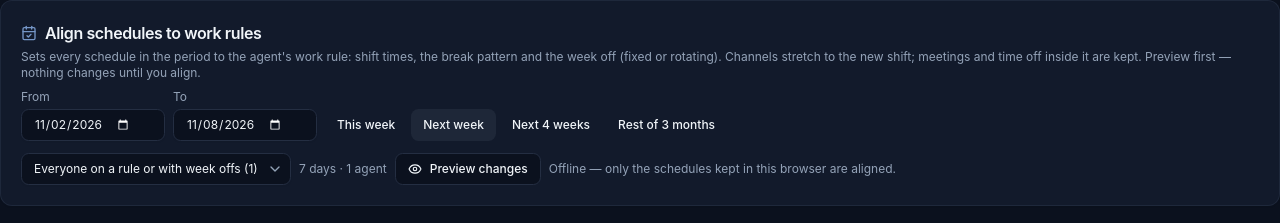
Test case: align schedules to work rules › checks the period
The width and height of the screenshot is (1280, 223).
Step 1. Type "2026-11-08" into the date field named "Align from" → (93, 125), box [21, 109, 165, 141]
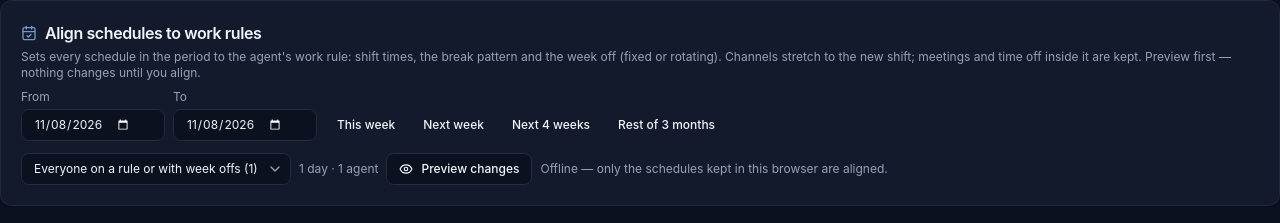
Step 2. Type "2026-11-02" into the date field named "Align to" → (245, 125), box [173, 109, 317, 141]
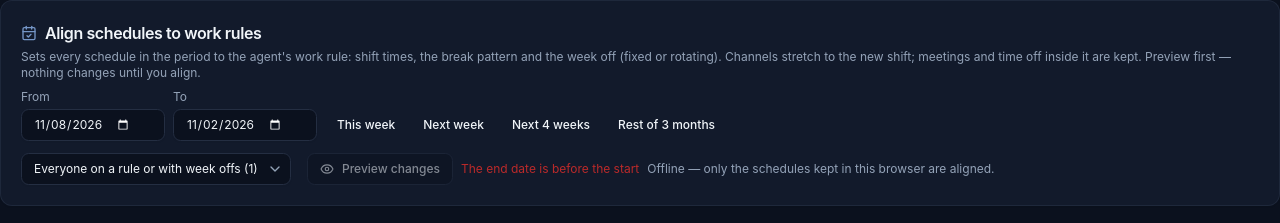
Check: the text "The end date is before the start" is shown, box [461, 161, 639, 177]
Check: the button "Preview changes" is disabled, box [307, 153, 453, 185]
Step 3. Type "2026-11-02" into the date field named "Align from" → (93, 125), box [21, 109, 165, 141]
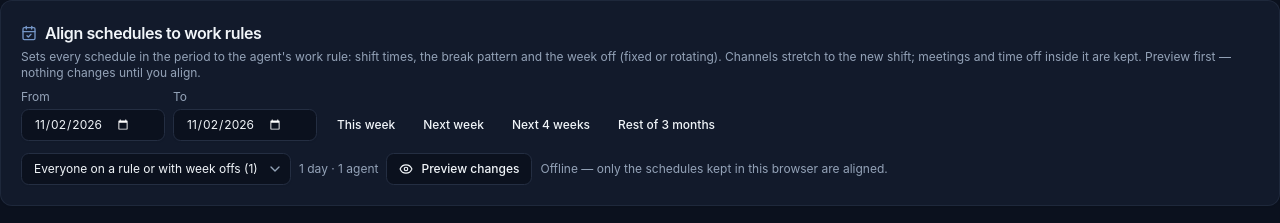
Step 4. Type "2027-06-01" into the date field named "Align to" → (245, 125), box [173, 109, 317, 141]
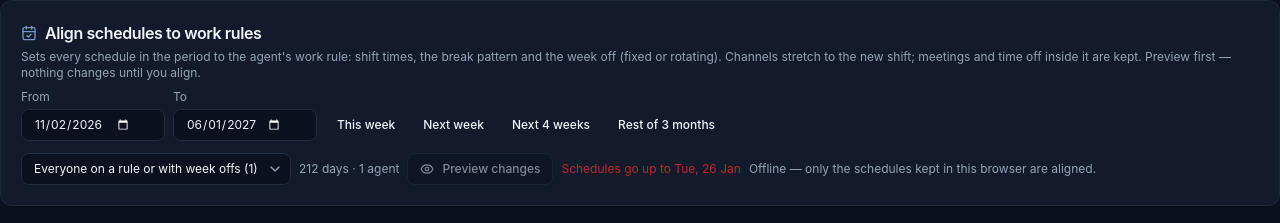
Check: the text "Schedules go up to Tue, 26 Jan" is shown, box [561, 161, 741, 177]
